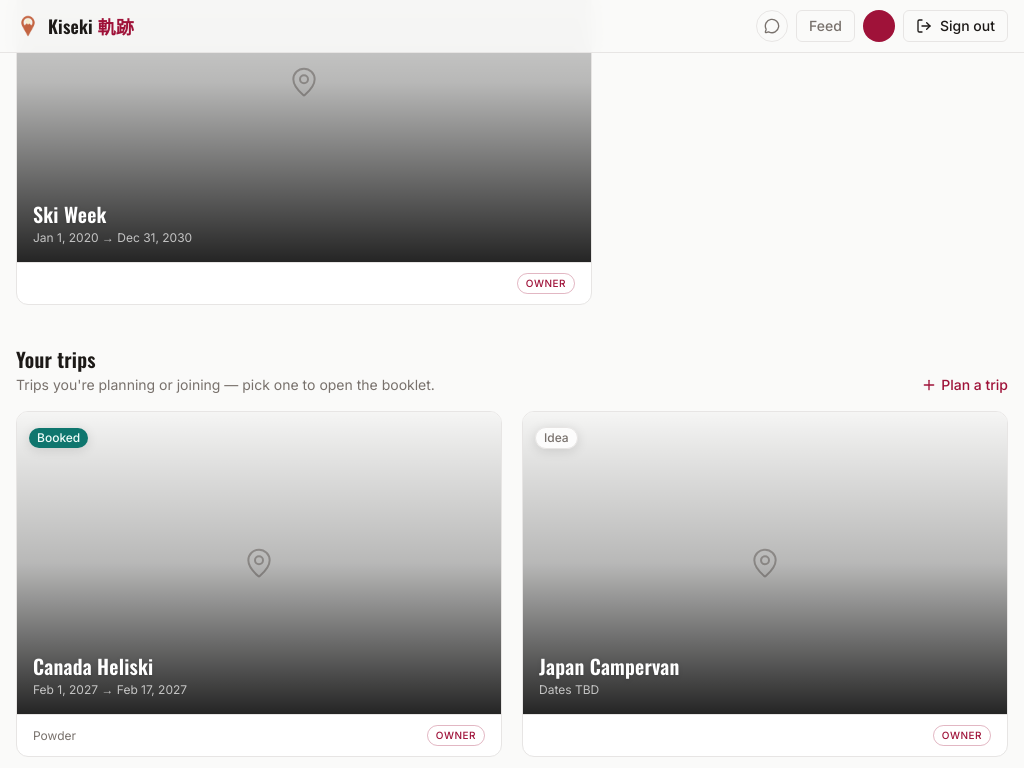
Scenario: plan-a-trip starts a new chat (#351) › rotates the landing thread when Plan-a-trip opens the chat
(page scrolled)
Click the button "Plan a trip". click: click(965, 385)
box: [921,375,1008,395]
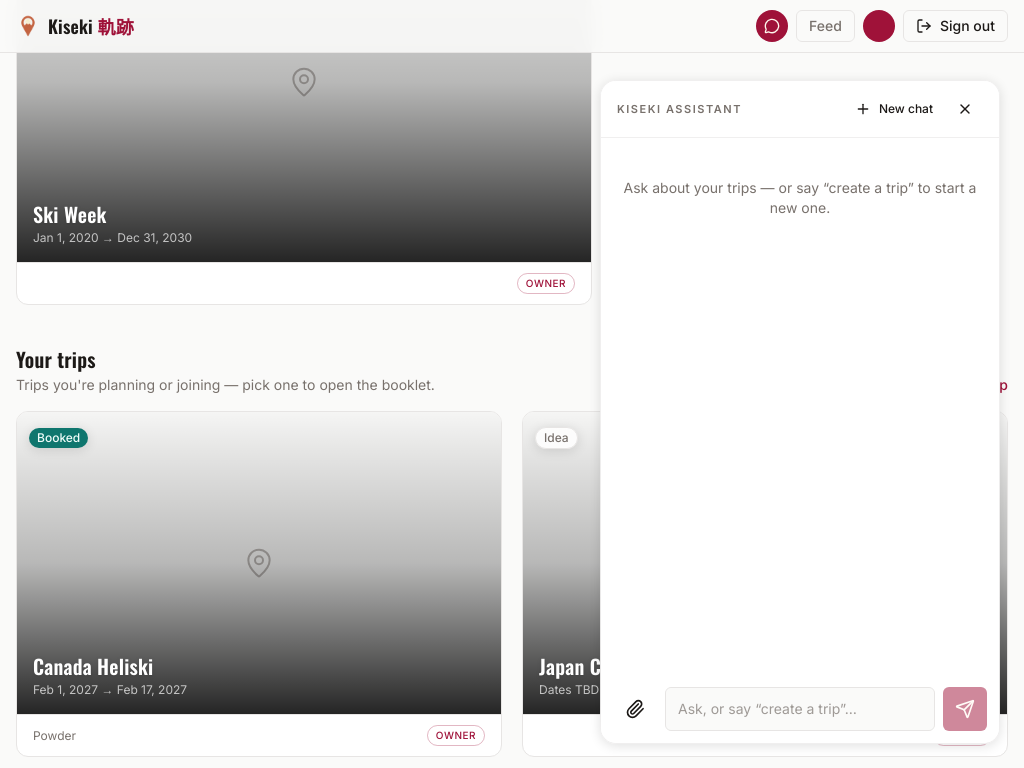
Now the text "Kiseki assistant" is shown, box [617,101,742,117]
